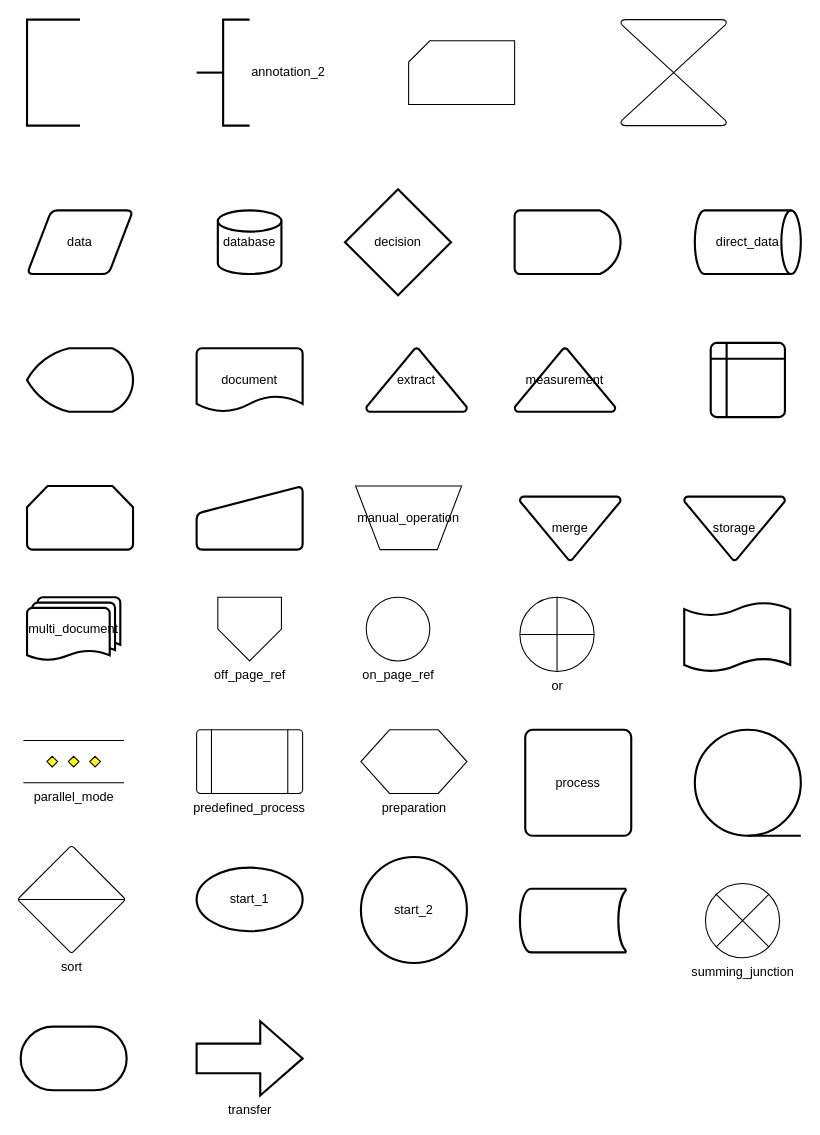
The diagram is 820 pixels wide and 1135 high, and some of its shapes have lost their labels. The shapes that lost their labels are listed below. From the top down, each one's box as (x1, y1, x2, y2) in pixels, then its label:
(25, 18, 81, 126): annotation_1
(408, 40, 515, 104): card
(620, 19, 727, 126): collate
(513, 209, 621, 275): delay
(25, 347, 134, 412): display
(709, 341, 785, 418): internal_storage
(25, 484, 134, 550): loop_limit
(195, 484, 303, 550): manual_input
(683, 601, 791, 672): tape
(693, 728, 801, 836): sequential_data
(518, 887, 626, 953): stored_data
(19, 1025, 127, 1091): terminator
